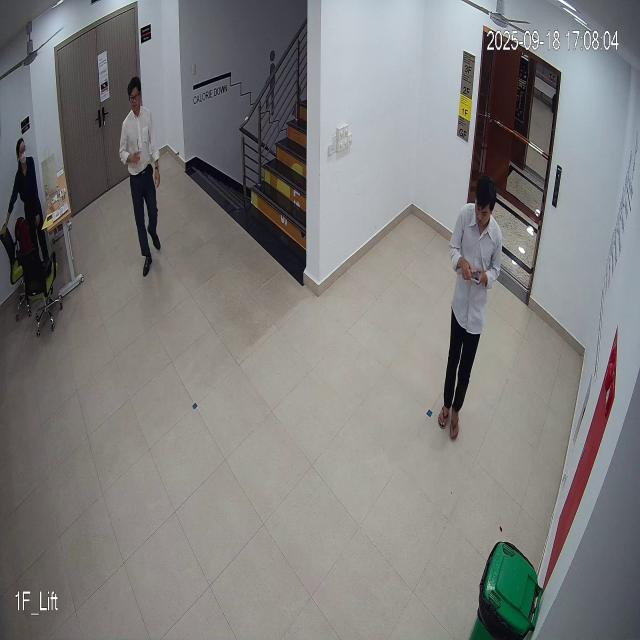face: (471, 172, 498, 230)
